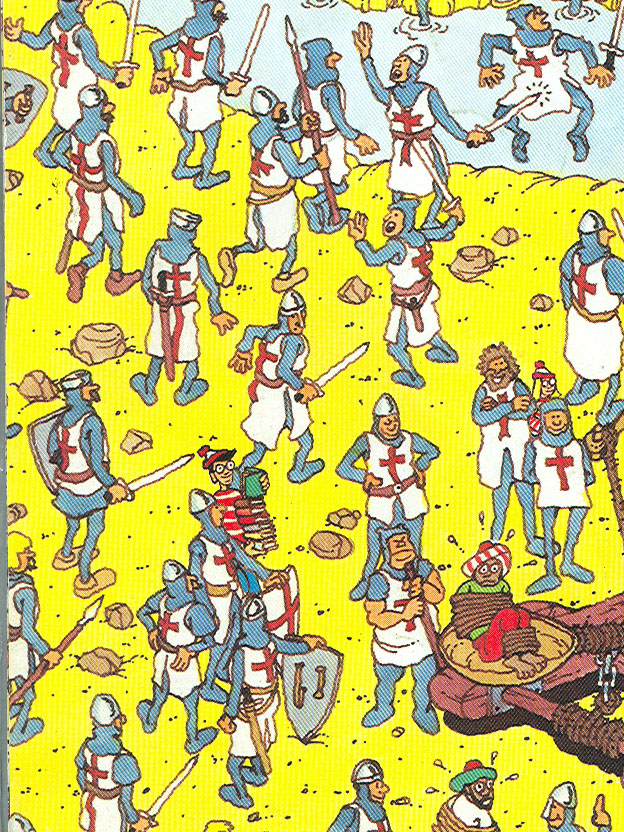waldo: (199, 443, 236, 485)
